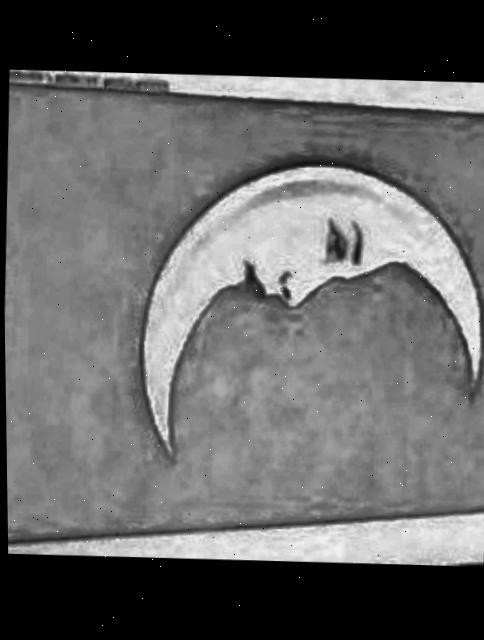La Luna: (4, 83, 484, 543)
